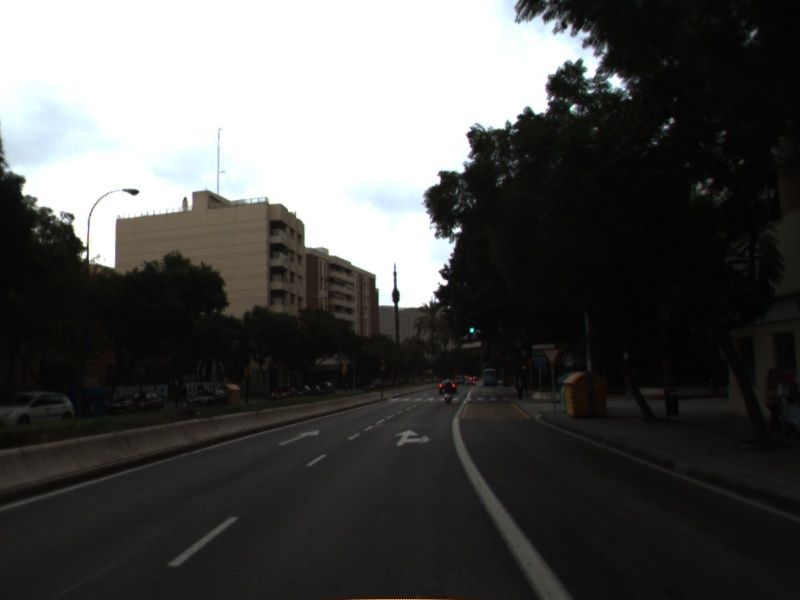STRAIGHT: (274, 428, 321, 448)
STRAIGHT_RIGHT: (391, 428, 434, 448)
